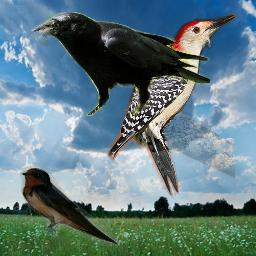Crow: (30, 12, 210, 116)
Swallow: (19, 166, 120, 246)
Woodpecker: (106, 14, 235, 198)
